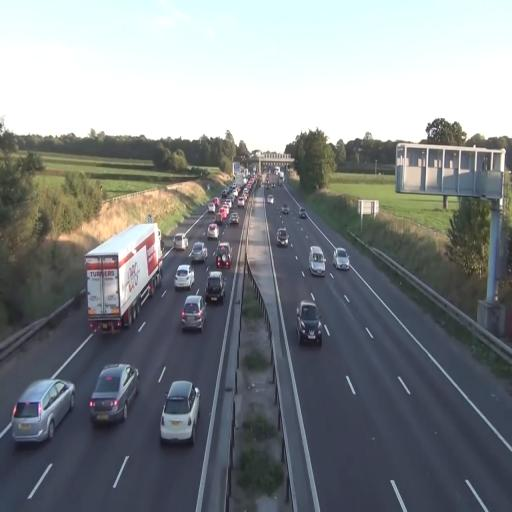vehicle: (84, 220, 164, 334), (11, 377, 76, 446), (88, 364, 140, 425), (160, 379, 200, 445), (296, 300, 322, 346), (180, 294, 206, 333), (204, 270, 225, 304), (175, 263, 195, 290), (309, 245, 326, 276), (214, 241, 232, 270), (189, 242, 207, 266), (334, 248, 350, 270), (275, 226, 289, 248), (299, 210, 307, 220)
